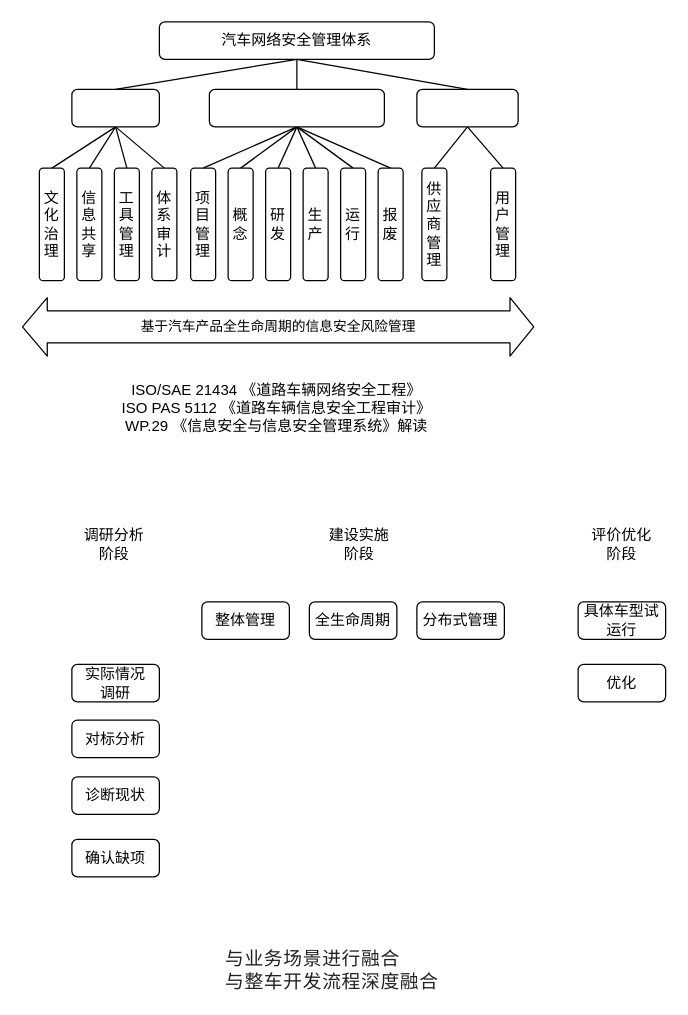
This 688x1015 diagram has some shape labels left out. The shapes that lost their labels are listed below. From the top down, each one's centre as x and y in pixels, then its label:
At pixel 115 107: "组织管理".
At pixel 296 107: "产品生命周期管理".
At pixel 467 107: "外部管理".
